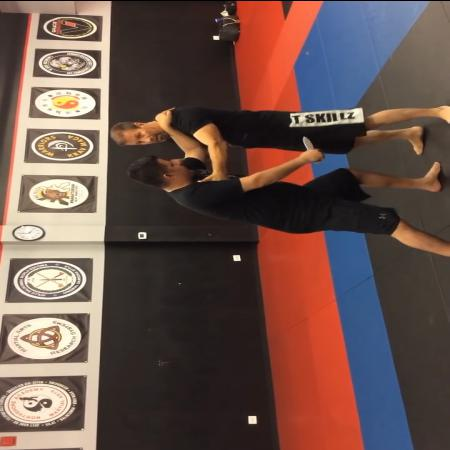long weapon: (298, 135, 326, 164)
